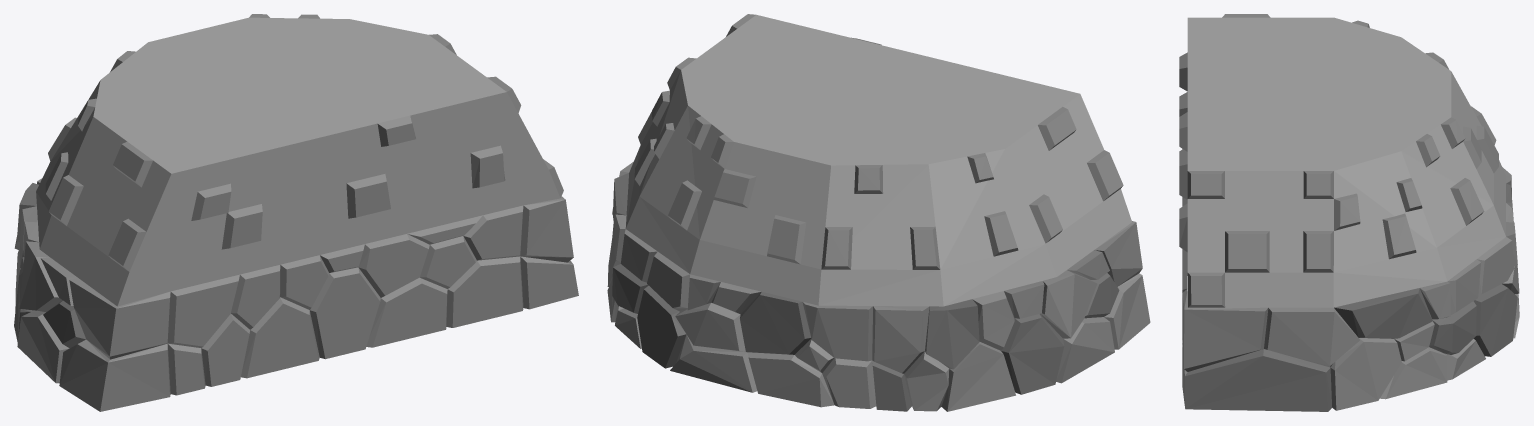
File: _FORTRESS_OSNOVA_01.fbx
The picture shows the model from 3 angles, left to right: view 1: azimuth 30°, elevation 25°; view 2: azimuth 150°, elevation 25°; view 3: azimuth 270°, elevation 25°; orthographic projection. The views are drawn at different scales.
Parts seen in each view (by area): view 1: FORTRESS_OSNOVA_01; view 2: FORTRESS_OSNOVA_01; view 3: FORTRESS_OSNOVA_01.
Boxes of the visible parts, box(x1,y1,x2,y2) form: FORTRESS_OSNOVA_01: box(14, 14, 578, 411); FORTRESS_OSNOVA_01: box(607, 14, 1150, 411); FORTRESS_OSNOVA_01: box(1179, 14, 1519, 411).
Bounding box in the file's own units: 624 × 269 × 403.
